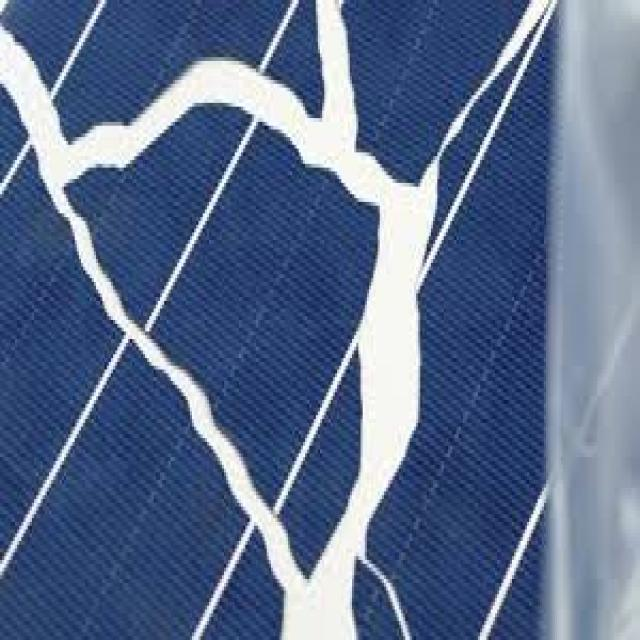faulty: (4, 11, 634, 640)
